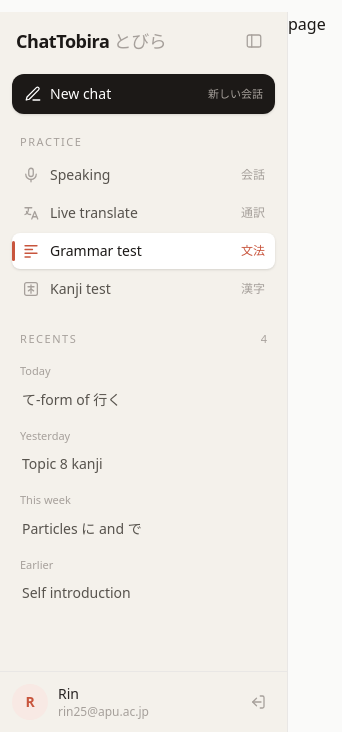
it: app sidebar › folds down to a rail of icons, and remembers it
This screenshot has width=342, height=732.
Click the button named "Collapse sidebar" at (254, 41), box [237,24,271,58]
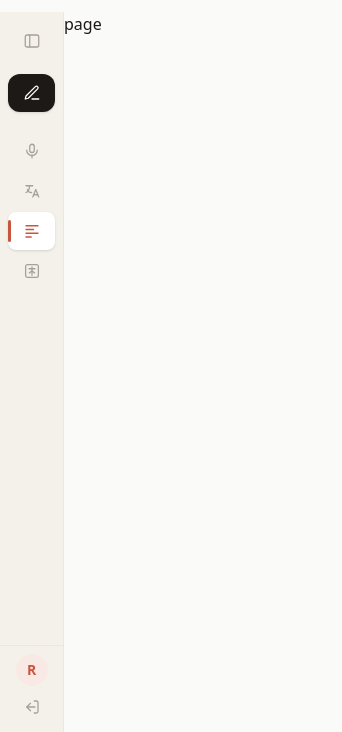
Click the button named "Expand sidebar" at (32, 41), box [14,24,48,58]
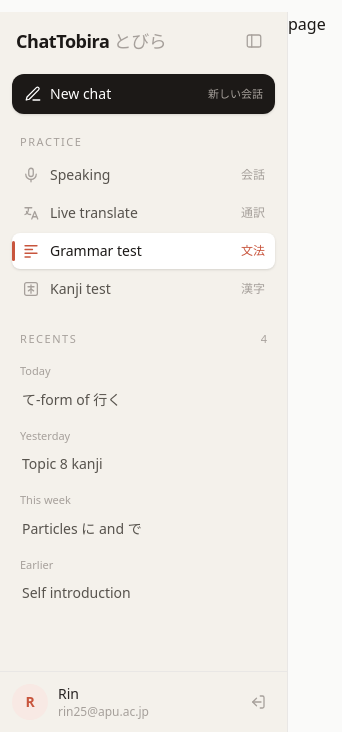
Result: the link "Topic 8 kanji" is shown at [22,454,103,473]
